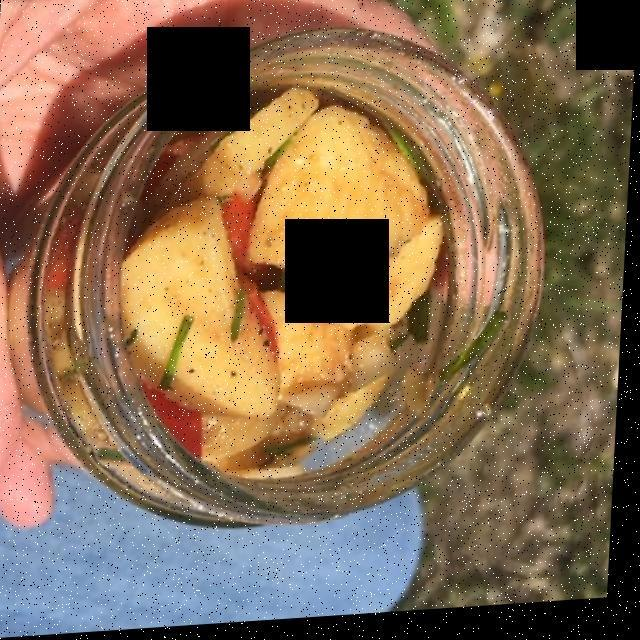potatoes: (121, 96, 436, 473)
